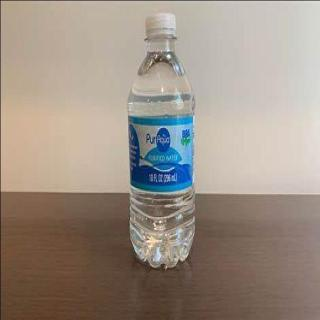Anorganik: (125, 5, 198, 271)
